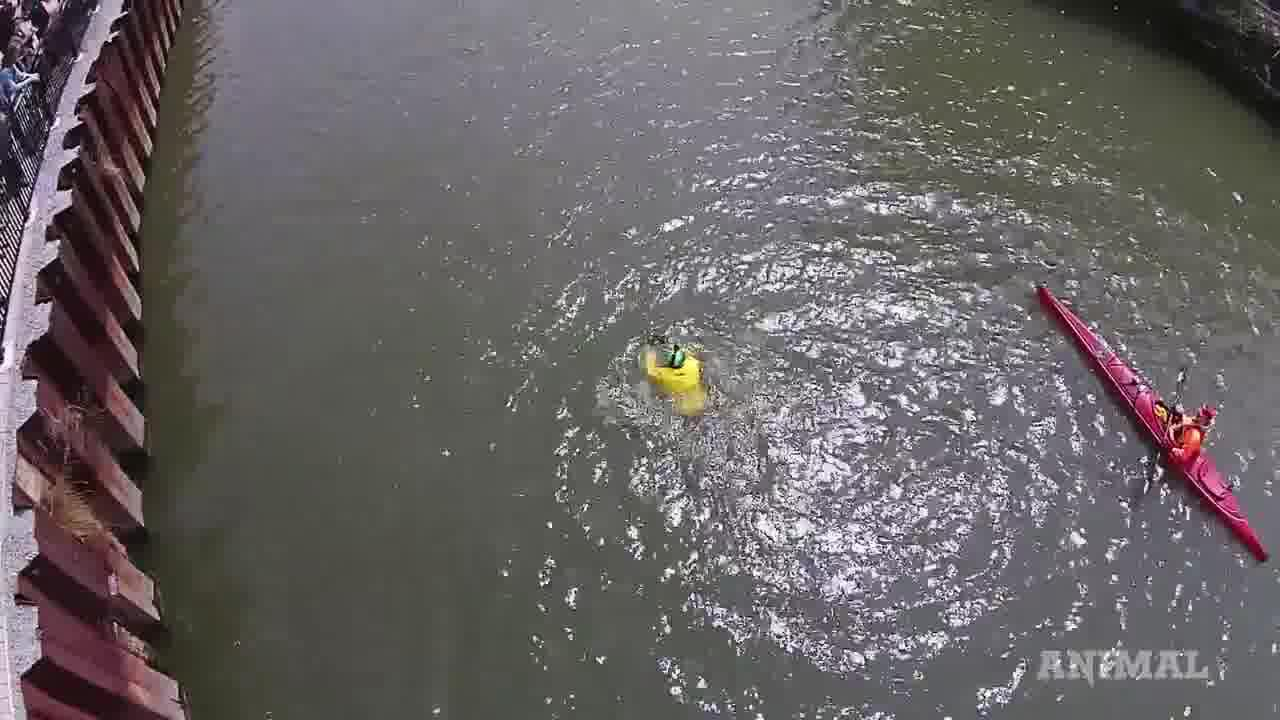swimmer: (630, 328, 723, 405)
